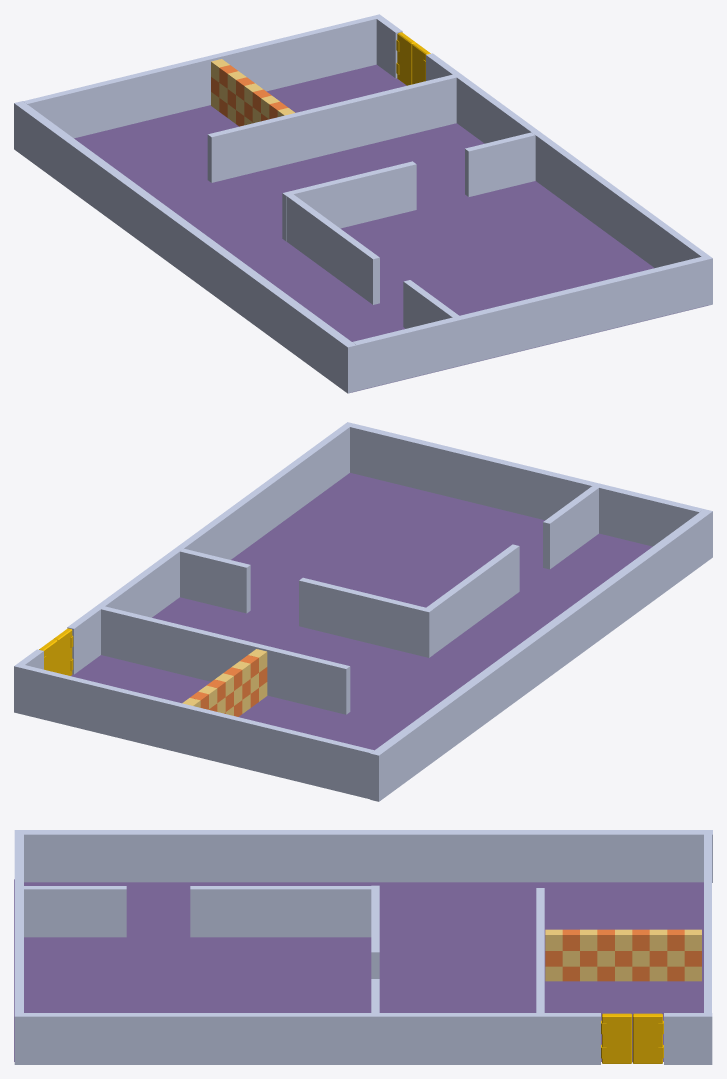
The model's file is maps52.fbx.
3 renders of one model, top to bottom at view 1: azimuth 30°, elevation 25°; view 2: azimuth 150°, elevation 25°; view 3: azimuth 270°, elevation 25°, orthographic. The views are drawn at different scales.
Visible parts, largest first — view 1: wall_01_08_geo, wall_01_07_geo, wall_01_05_geo, wall_01_09_geo, wall_01_09_geo6, wall_01_06_geo1, wall_01_09_geo10, wall_01_09_geo5, wall_01_09_geo8, wall_01_09_geo11, wall_01_06_geo2, polySurface165; view 2: wall_01_08_geo, wall_01_07_geo, wall_01_09_geo, wall_01_05_geo, wall_01_06_geo1, wall_01_09_geo6, wall_01_09_geo10, wall_01_09_geo5, wall_01_09_geo8, wall_01_09_geo11, polySurface161, wall_01_06_geo2; view 3: wall_01_08_geo, wall_01_07_geo, wall_01_06_geo1, wall_01_09_geo5, wall_01_09_geo11, wall_01_06_geo2, wall_01_05_geo, polySurface165, polySurface161, wall_01_09_geo, wall_01_09_geo6, wall_01_09_geo10 (+9 smaller).
Part boxes in pixels (x1,y1,x2,y2): wall_01_08_geo: (74, 64, 708, 392); wall_01_07_geo: (14, 101, 356, 393); wall_01_05_geo: (352, 257, 705, 391); wall_01_09_geo: (23, 16, 376, 138); wall_01_09_geo6: (207, 74, 456, 182); wall_01_06_geo1: (426, 53, 712, 306); wall_01_09_geo10: (282, 161, 416, 241); wall_01_09_geo5: (286, 194, 379, 304); wall_01_09_geo8: (465, 132, 535, 196); wall_01_09_geo11: (403, 280, 459, 328); wall_01_06_geo2: (373, 14, 402, 78); polySurface165: (396, 32, 415, 85); wall_01_08_geo: (71, 473, 652, 750); wall_01_07_geo: (370, 509, 712, 801); wall_01_09_geo: (21, 665, 373, 799); wall_01_05_geo: (350, 423, 703, 546); wall_01_06_geo1: (67, 422, 353, 674); wall_01_09_geo6: (101, 606, 350, 714); wall_01_09_geo10: (299, 577, 433, 657); wall_01_09_geo5: (426, 544, 519, 654); wall_01_09_geo8: (180, 548, 250, 613); wall_01_09_geo11: (543, 486, 598, 569); polySurface161: (54, 628, 73, 675); wall_01_06_geo2: (14, 649, 43, 713); wall_01_08_geo: (14, 879, 703, 1061); wall_01_07_geo: (14, 830, 712, 882); wall_01_06_geo1: (14, 1013, 600, 1064); wall_01_09_geo5: (190, 886, 371, 937); wall_01_09_geo11: (23, 886, 126, 937); wall_01_06_geo2: (664, 1013, 712, 1064); wall_01_05_geo: (14, 834, 23, 1012); polySurface165: (632, 1013, 663, 1063); polySurface161: (601, 1013, 631, 1063); wall_01_09_geo: (704, 834, 711, 1012); wall_01_09_geo6: (536, 888, 544, 1012); wall_01_09_geo10: (371, 885, 379, 978).
Size of the model in its own units: 73.34 by 8.96 by 116.
Materials: 3 (3 with a texture image).
